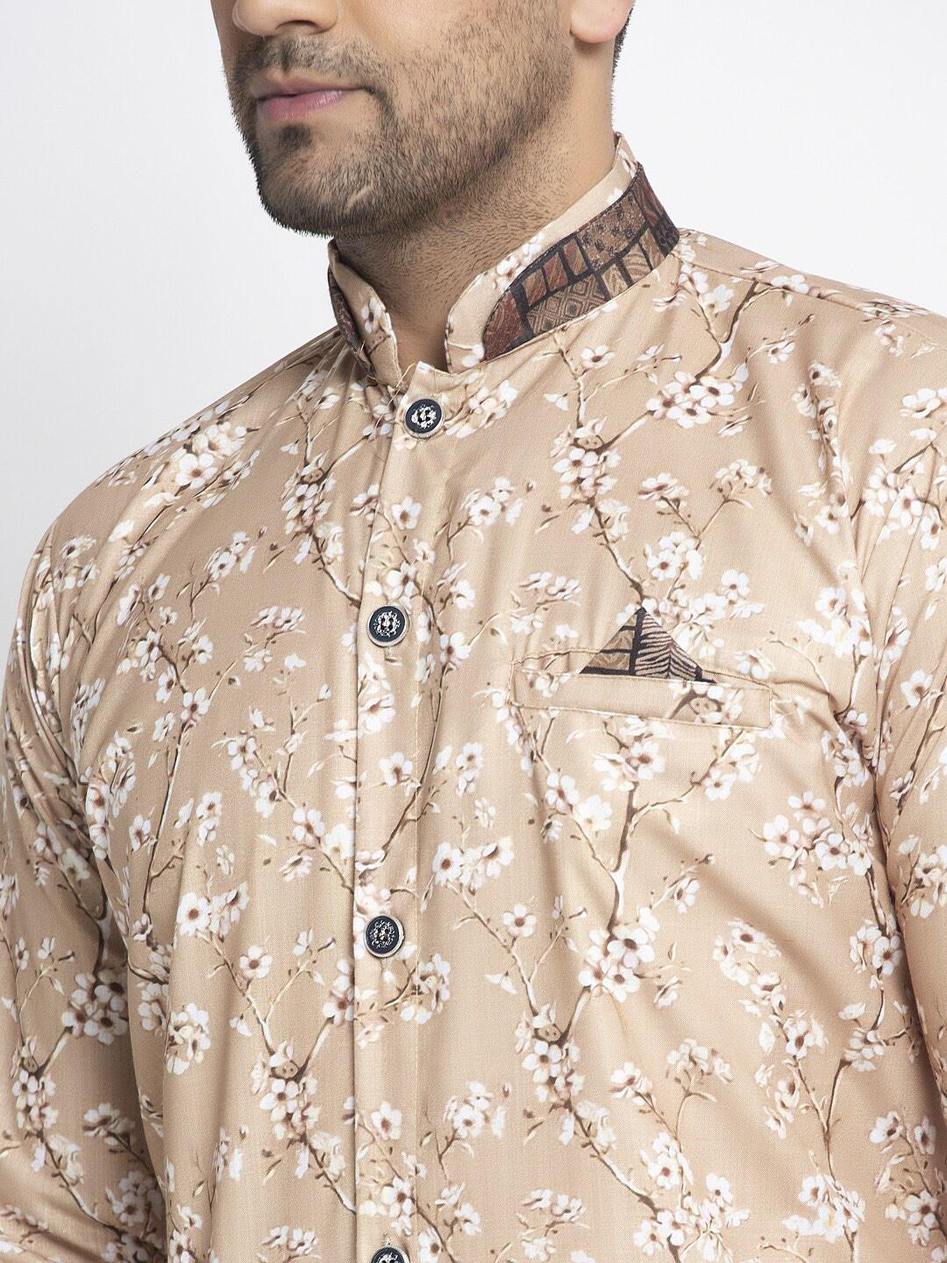Desgin sherwani: (5, 126, 945, 1259)
